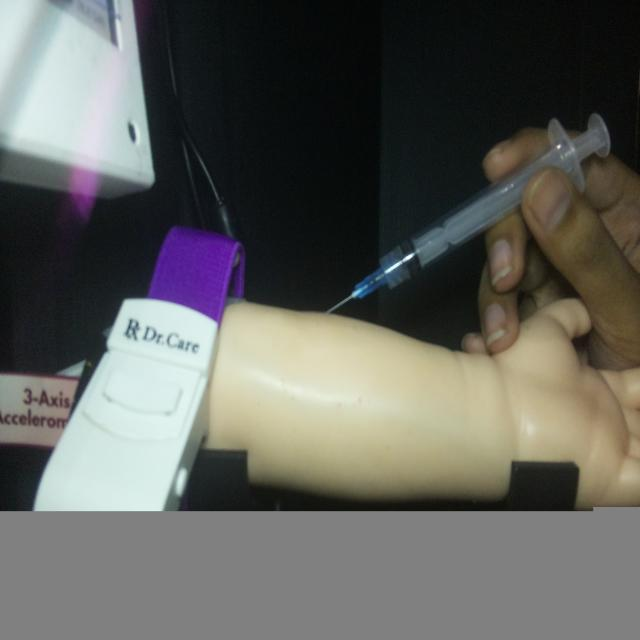27 degrees: (324, 109, 612, 316)
